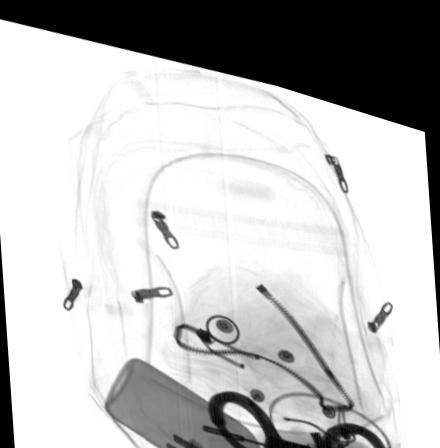Gun: (199, 410, 378, 448)
HandCuffs: (205, 375, 391, 448)
